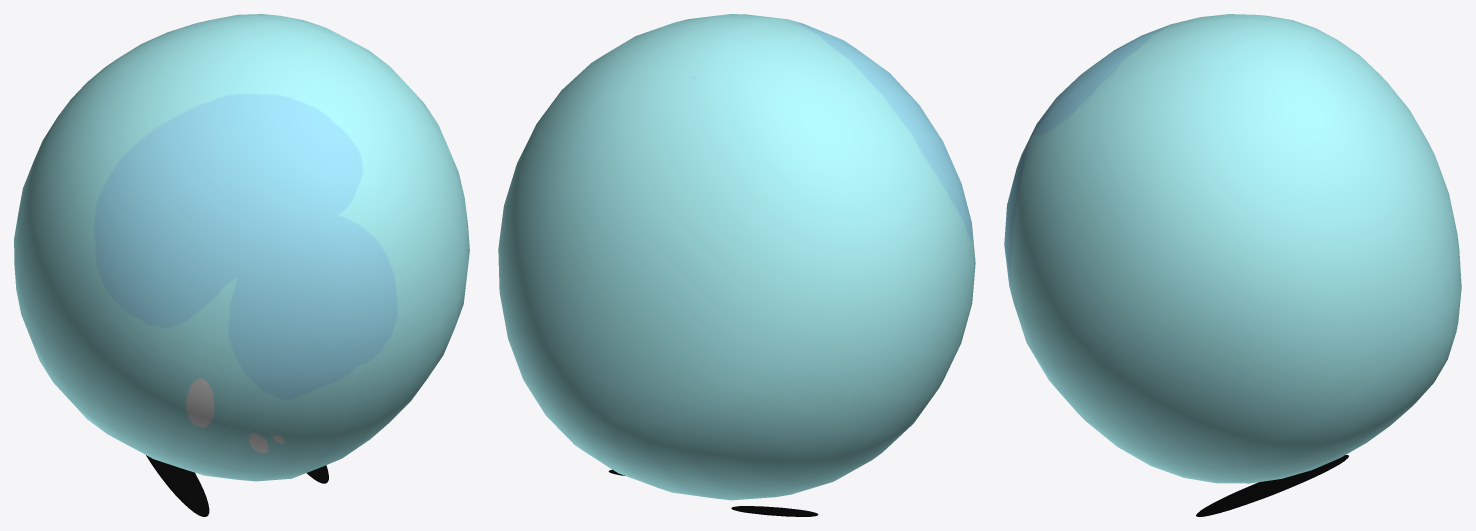
Rendered from korokoro2.fbx.
3 views of the same model, side by side, from view 1: azimuth 30°, elevation 25°; view 2: azimuth 150°, elevation 25°; view 3: azimuth 270°, elevation 25° (orthographic). The views are drawn at different scales.
Parts seen in each view (by area): view 1: polySurface2; view 2: polySurface2; view 3: polySurface2.
Part boxes in pixels (x1=…): polySurface2: x1=14, y1=14, x2=469, y2=516; polySurface2: x1=498, y1=14, x2=975, y2=516; polySurface2: x1=1004, y1=14, x2=1461, y2=516.
Bounding box in the file's own units: 2.34 × 2.58 × 2.34.
Materials: 2 (2 with a texture image).
